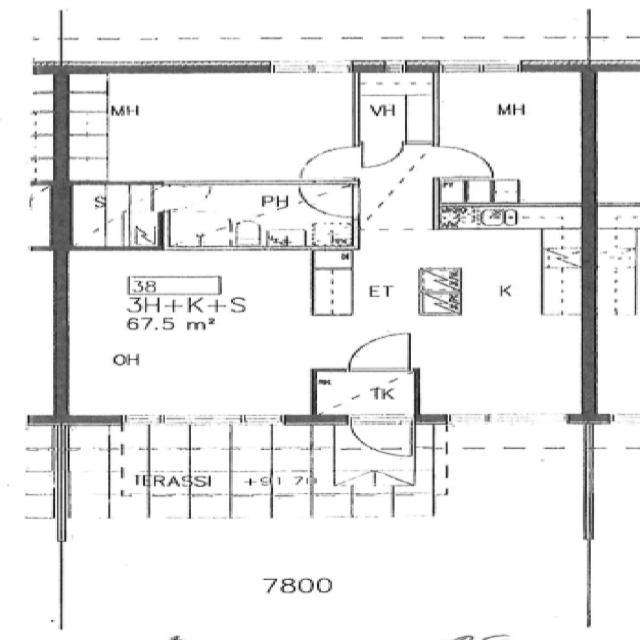door: (342, 413, 417, 460), (342, 329, 418, 375), (292, 142, 362, 182), (430, 142, 500, 182), (297, 182, 360, 218), (155, 182, 215, 212), (356, 139, 408, 170)
window: (441, 408, 578, 429), (441, 60, 523, 76), (268, 61, 338, 75)
zone: (57, 247, 317, 418), (419, 204, 589, 422), (71, 70, 364, 182), (72, 422, 321, 521), (435, 68, 587, 202), (159, 182, 357, 250), (355, 68, 437, 146), (68, 182, 162, 249), (312, 370, 419, 419)
